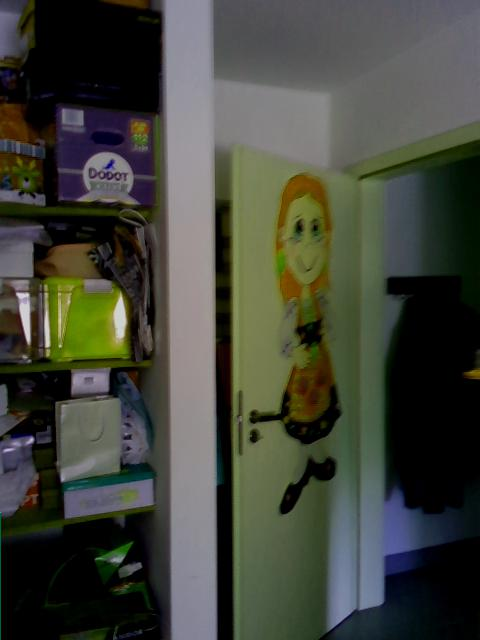open_door: (335, 118, 479, 613)
